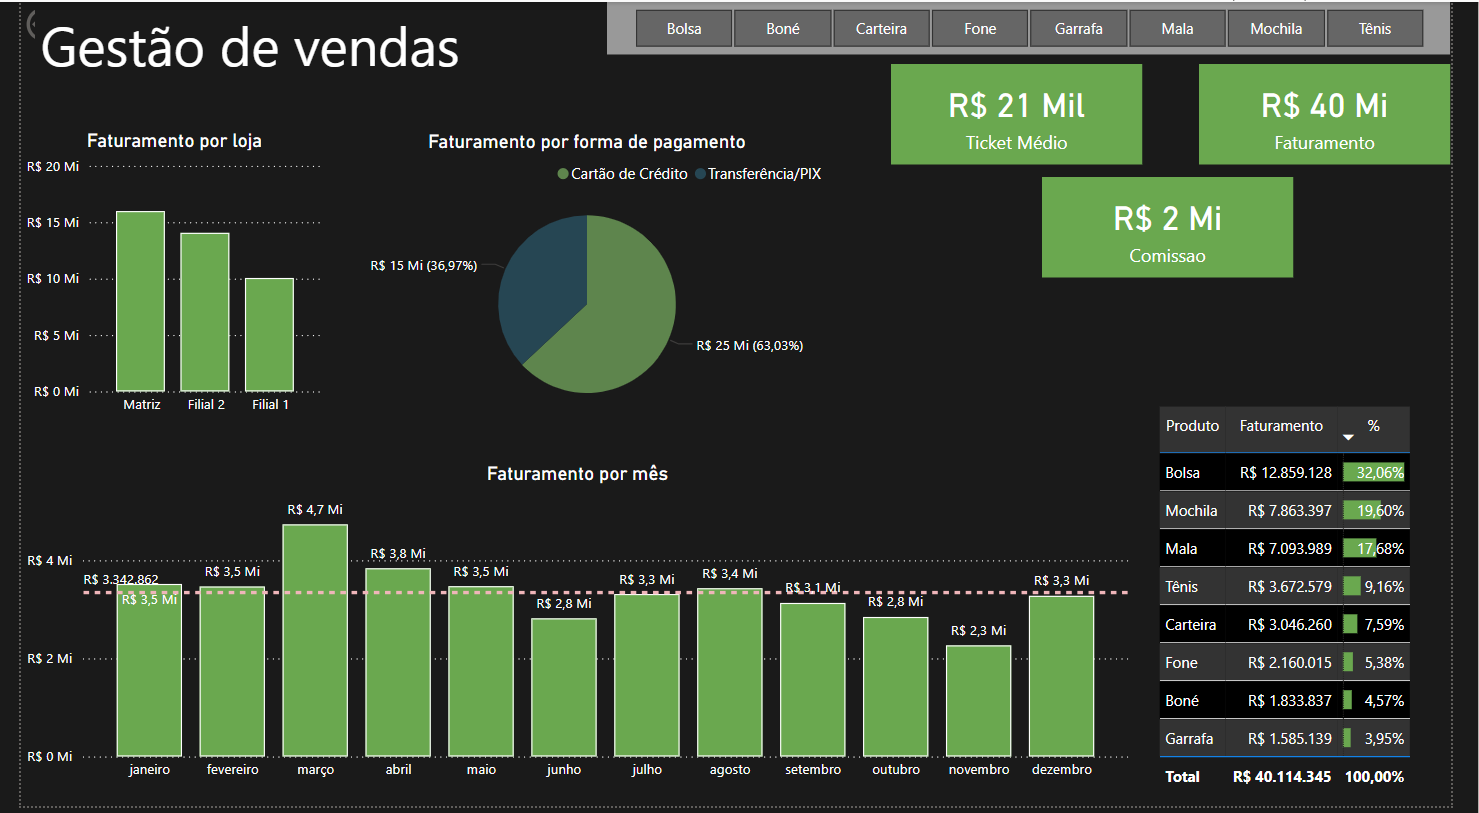

This screenshot's page, from the dashboard's own definition file:
{"tool":"powerbi","page":{"name":"Página 1","canvas":[1280,720],"ordinal":0},"visuals":[{"type":"card","fields":{"Values":["Avg(Vendas.Valor Venda)"]},"box":[779.1,55.5,224.8,90.4],"z":0},{"type":"card","fields":{"Values":["Sum(Vendas.Valor Venda)"]},"box":[1054.9,55.5,224.8,90.4],"z":1000},{"type":"actionButton","box":[0,0,100,40],"z":2000},{"type":"clusteredColumnChart","title":"Faturamento por mês","fields":{"Category":["Vendas.Data Pedido.Variation.Hierarquia de datas.Mês"],"Y":["Sum(Vendas.Valor Venda)"]},"box":[0,411.9,996.7,293.7],"z":3000},{"type":"pieChart","title":"Faturamento por forma de pagamento","fields":{"Y":["Sum(Vendas.Valor Venda)"],"Category":["Vendas.Pagamento"]},"box":[287.5,114.6,438.8,264.2],"z":4000},{"type":"clusteredColumnChart","title":"Faturamento por loja","fields":{"Y":["Sum(Vendas.Valor Venda)"],"Category":["lojas.nome_loja"]},"box":[0,113.7,274.9,265.1],"z":5000},{"type":"tableEx","fields":{"Values":["Vendas.Produto","Sum(Vendas.Valor Venda)","Divide(Sum(Vendas.Valor Venda), ScopedEval(Sum(Vendas.Valor Venda), []))"]},"box":[1013.7,357.3,249.9,362.7],"z":6000},{"type":"slicer","fields":{"Values":["Vendas.Produto"]},"box":[524.8,0,754.9,46.6],"z":7000},{"type":"textbox","box":[12.5,0,470.1,93.1],"z":8000},{"type":"card","fields":{"Values":["Vendas.Comissao"]},"box":[914.3,156.7,224.8,90.4],"z":9000}]}

Visuals, with their boxes in screenshot pixels (x1, y1, x2, y2), scaled from the page's 1280x720 canvas onto the 1479x813 screenshot:
card - Avg(Vendas.Valor Venda): {"x1": 900, "y1": 63, "x2": 1160, "y2": 165}
card - Sum(Vendas.Valor Venda): {"x1": 1219, "y1": 63, "x2": 1478, "y2": 165}
actionButton: {"x1": 0, "y1": 0, "x2": 116, "y2": 45}
"Faturamento por mês" clusteredColumnChart: {"x1": 0, "y1": 465, "x2": 1152, "y2": 797}
"Faturamento por forma de pagamento" pieChart: {"x1": 332, "y1": 129, "x2": 839, "y2": 428}
"Faturamento por loja" clusteredColumnChart: {"x1": 0, "y1": 128, "x2": 318, "y2": 428}
tableEx - Vendas.Produto x Sum(Vendas.Valor Venda): {"x1": 1171, "y1": 403, "x2": 1460, "y2": 812}
slicer - Vendas.Produto: {"x1": 606, "y1": 0, "x2": 1478, "y2": 53}
textbox: {"x1": 14, "y1": 0, "x2": 558, "y2": 105}
card - Vendas.Comissao: {"x1": 1056, "y1": 177, "x2": 1316, "y2": 279}
